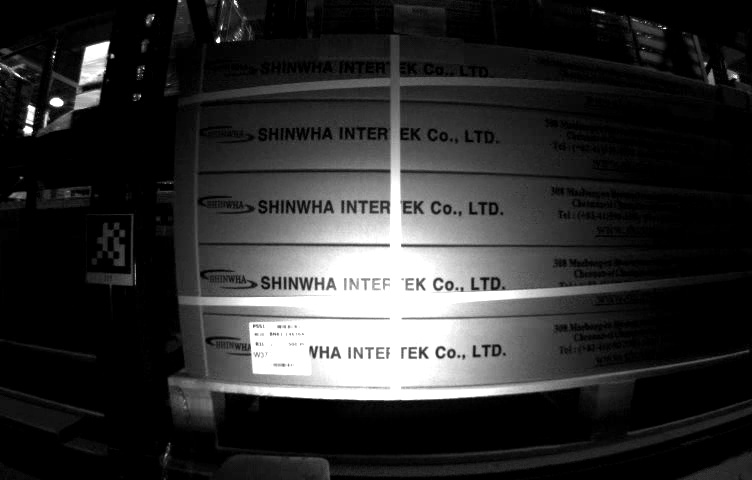True Barcode: (250, 320, 311, 377)
